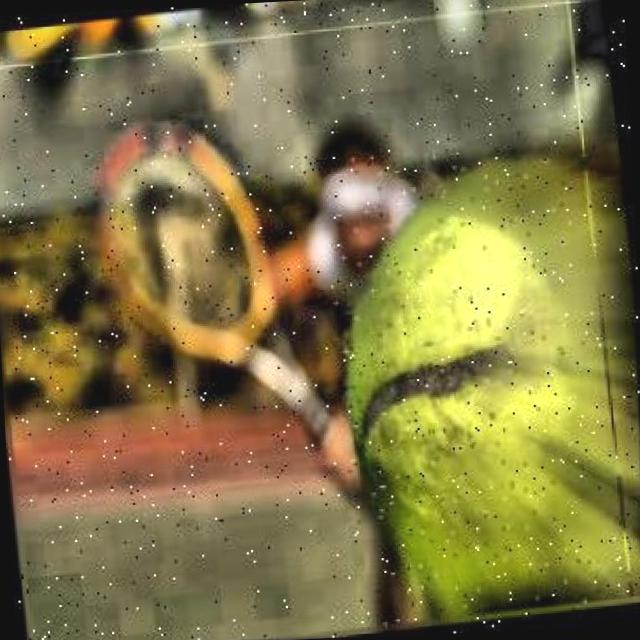Tennis Ball: (308, 131, 621, 636)
